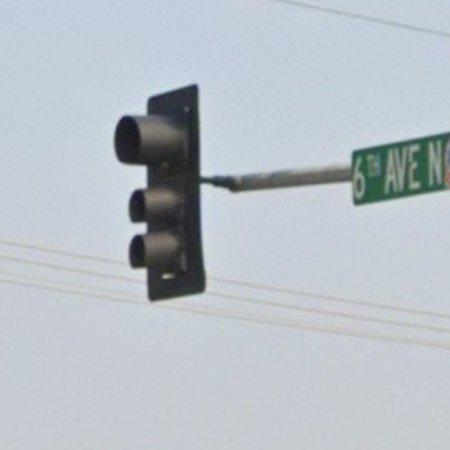traffic lights: (116, 83, 206, 302)
